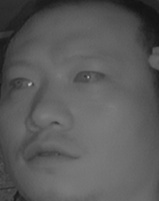eye: (72, 65, 104, 88), (7, 73, 36, 93)
mouth: (19, 136, 81, 171)
